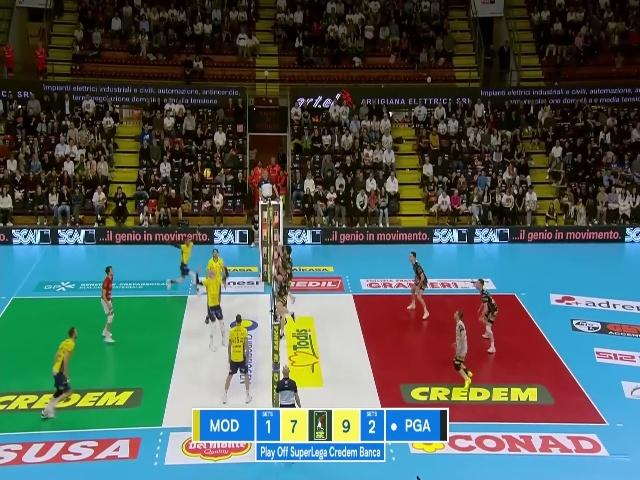volleyball court: (0, 292, 607, 433)
